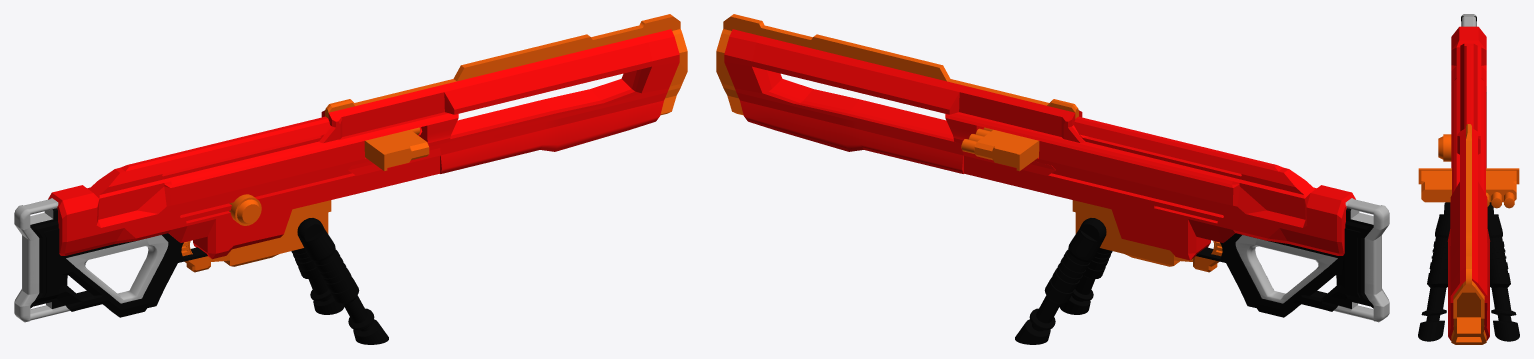
File: Nerf Gun.fbx
The picture shows the model from 3 angles, left to right: view 1: azimuth 30°, elevation 25°; view 2: azimuth 150°, elevation 25°; view 3: azimuth 270°, elevation 25°; orthographic projection. The views are drawn at different scales.
Parts seen in each view (by area): view 1: BODY, MUZZLE, STOCK, LEG_RIGHT, GRIP, MAG, LEG_LEFT, KNOB; view 2: BODY, MUZZLE, STOCK, LEG_LEFT, GRIP, MAG, LEG_RIGHT; view 3: MUZZLE, BODY, LEG_RIGHT, LEG_LEFT, MAG, KNOB, STOCK, DART2, DART3.
Part boxes in pixels (x1,y1,x2,y2): BODY: (48, 112, 458, 259); MUZZLE: (314, 14, 687, 175); STOCK: (14, 198, 207, 322); LEG_RIGHT: (297, 218, 388, 344); GRIP: (184, 200, 331, 272); MAG: (364, 130, 429, 171); LEG_LEFT: (291, 248, 344, 314); KNOB: (229, 194, 261, 225); BODY: (945, 112, 1355, 260); MUZZLE: (716, 14, 1089, 175); STOCK: (1196, 198, 1389, 322); LEG_LEFT: (1015, 218, 1106, 344); GRIP: (1072, 200, 1219, 272); MAG: (974, 130, 1039, 171); LEG_RIGHT: (1059, 248, 1112, 314); MUZZLE: (1447, 124, 1490, 344); BODY: (1451, 26, 1486, 194); LEG_RIGHT: (1418, 202, 1450, 341); LEG_LEFT: (1487, 202, 1519, 341); MAG: (1418, 168, 1519, 202); KNOB: (1438, 134, 1451, 161); STOCK: (1461, 14, 1476, 26); DART2: (1491, 192, 1501, 208); DART3: (1504, 192, 1514, 208).
Bounding box in the file's own units: 33.93 × 11.31 × 5.02.
